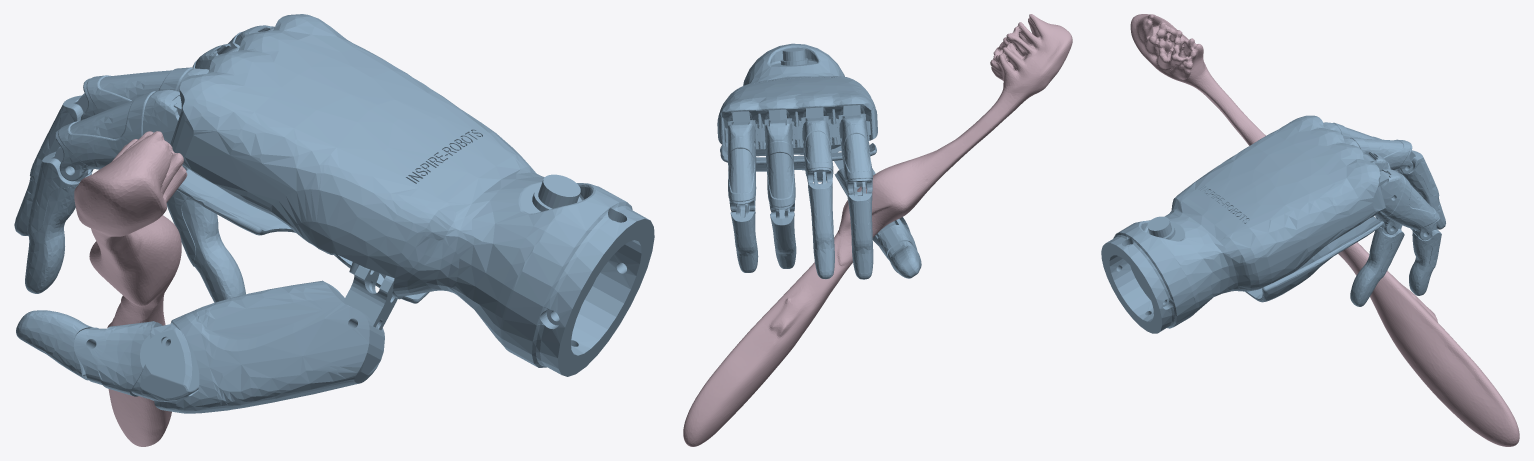
3 views of the same model, side by side, from view 1: azimuth 30°, elevation 25°; view 2: azimuth 150°, elevation 25°; view 3: azimuth 270°, elevation 25° (orthographic). The views are drawn at different scales.
Visible parts, largest first — view 1: world, obj_mesh_grasp_0.obj; view 2: world, obj_mesh_grasp_0.obj; view 3: world, obj_mesh_grasp_0.obj.
Part boxes in pixels (x1,y1,x2,y2): world: (14, 14, 654, 413); obj_mesh_grasp_0.obj: (74, 131, 187, 446); world: (717, 43, 921, 279); obj_mesh_grasp_0.obj: (683, 14, 1072, 446); world: (1101, 115, 1445, 333); obj_mesh_grasp_0.obj: (1130, 14, 1519, 446).
Bounding box in the file's own units: 0.1896 × 0.1929 × 0.2084.
